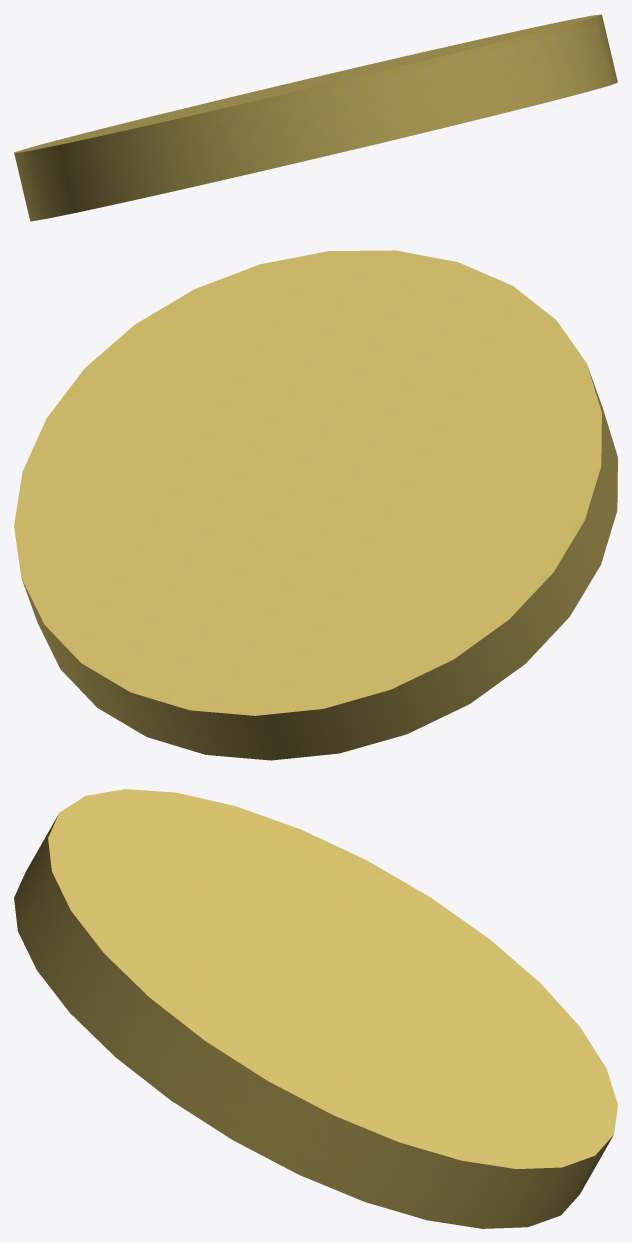
File: effect_UI_yingbi_dongzuo #472308.fbx
The picture shows the model from 3 angles, top to bottom: view 1: azimuth 30°, elevation 25°; view 2: azimuth 150°, elevation 25°; view 3: azimuth 270°, elevation 25°; orthographic projection. The views are drawn at different scales.
Parts seen in each view (by area): view 1: effect_UI_yingbi; view 2: effect_UI_yingbi; view 3: effect_UI_yingbi.
Part boxes in pixels (x1,y1,x2,y2): effect_UI_yingbi: (14,14,617,221); effect_UI_yingbi: (14,250,617,760); effect_UI_yingbi: (14,789,617,1228).
Bounding box in the file's own units: 0.066 × 0.0371 × 0.0623.
